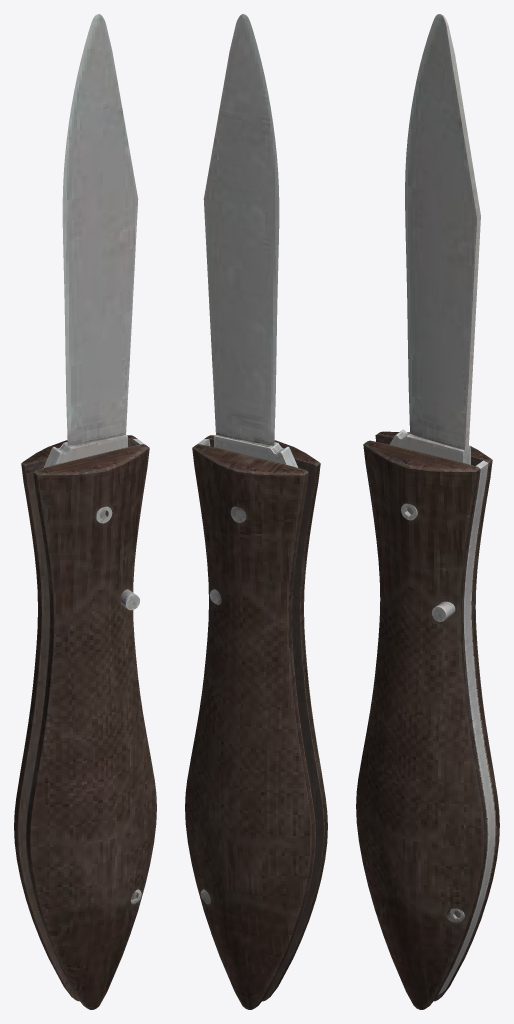
File: natural-knife-weathered.glb
The picture shows the model from 3 angles, left to right: view 1: azimuth 30°, elevation 25°; view 2: azimuth 150°, elevation 25°; view 3: azimuth 330°, elevation 25°; orthographic projection.
Parts seen in each view (by area): view 1: natural-knife-weathered runtime mesh; view 2: natural-knife-weathered runtime mesh; view 3: natural-knife-weathered runtime mesh.
Boxes of the visible parts, left/top/right/bottom form: natural-knife-weathered runtime mesh: left=14, top=14, right=156, bottom=1009; natural-knife-weathered runtime mesh: left=185, top=14, right=327, bottom=1009; natural-knife-weathered runtime mesh: left=356, top=14, right=499, bottom=1009.
Bounding box in the file's own units: 0.0431 × 0.32 × 0.0241.
Materials: 1 (1 with a texture image).
